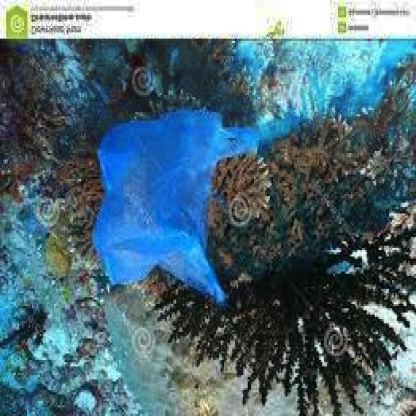pbag: (90, 108, 259, 304)
